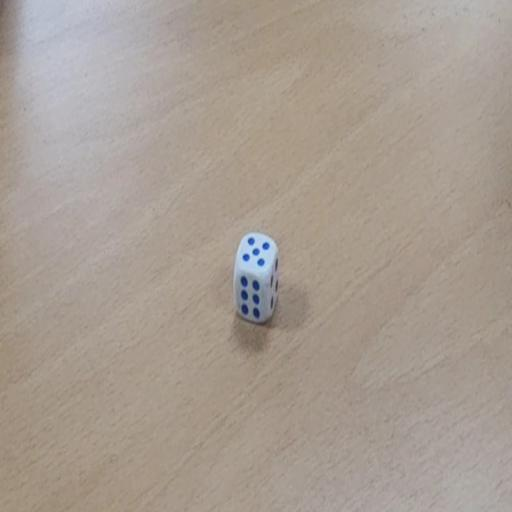dice_5: (233, 230, 281, 324)
